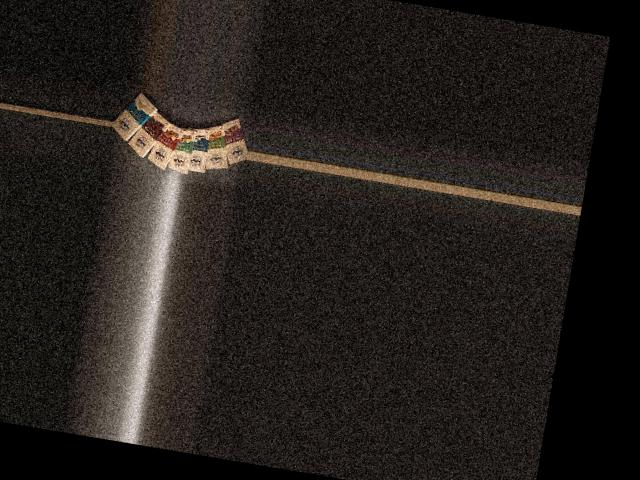chocolate: (111, 85, 160, 147)
